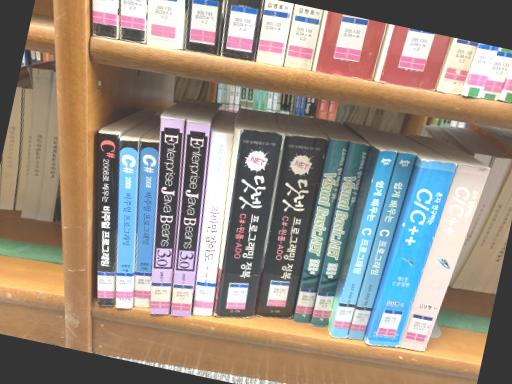book-spine: (398, 164, 491, 351), (366, 160, 458, 347), (257, 135, 329, 318), (348, 152, 417, 340), (216, 129, 285, 316), (331, 150, 398, 338), (311, 143, 369, 326), (294, 140, 349, 323), (171, 121, 211, 316), (193, 132, 234, 315), (150, 118, 184, 314), (115, 140, 139, 309), (134, 142, 158, 307), (97, 133, 119, 306)
